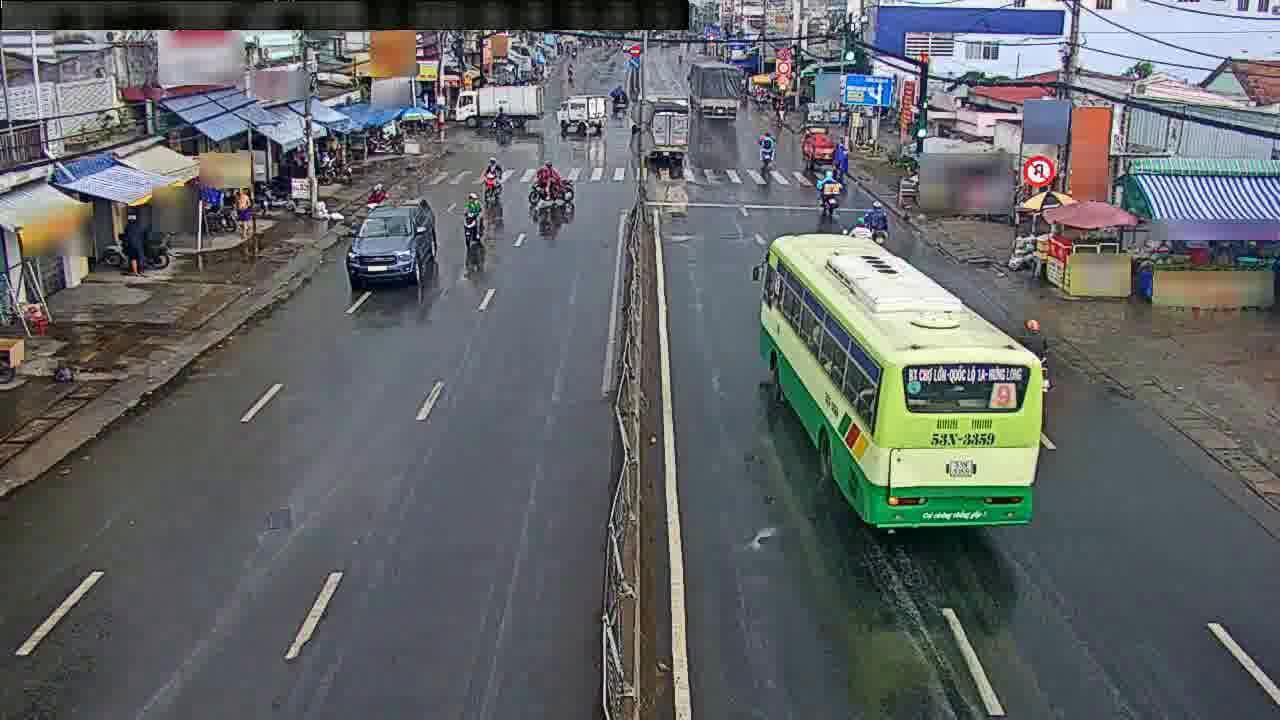14: (746, 222, 1046, 536)
8: (682, 59, 748, 122), (634, 93, 692, 163), (454, 89, 543, 123), (554, 96, 608, 134)
container: (339, 203, 442, 294)
motorbike: (97, 219, 174, 275), (520, 165, 582, 209), (854, 196, 895, 250), (811, 164, 848, 222), (461, 191, 491, 247), (476, 157, 509, 204), (751, 125, 782, 173)
